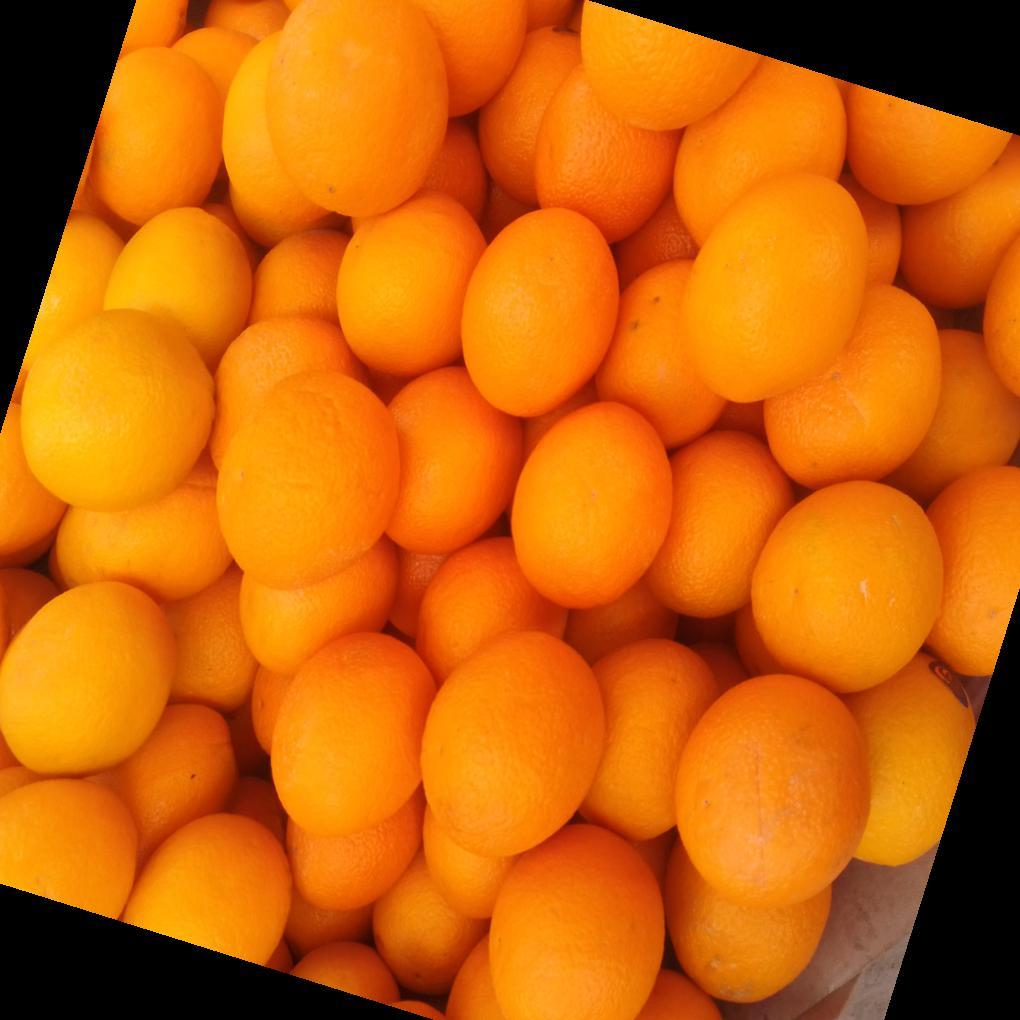FreshGuava: (31, 0, 806, 851)
